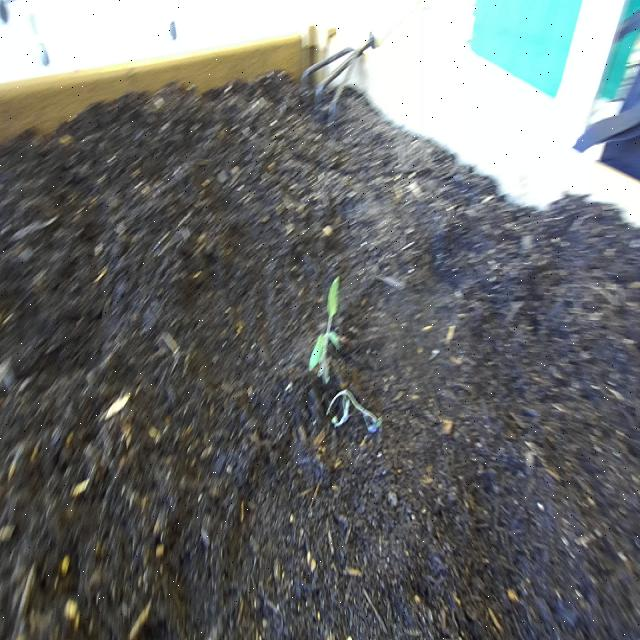Unhealthy: (306, 266, 346, 379), (324, 384, 388, 441)
